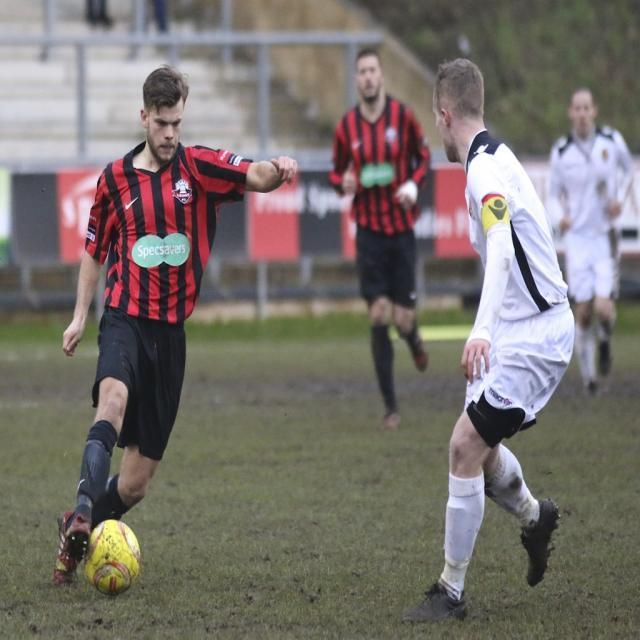ball: (79, 518, 142, 596)
